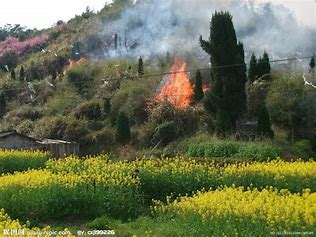fire: (148, 53, 204, 108)
